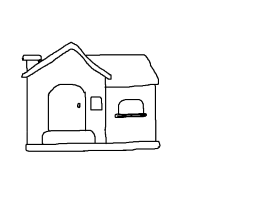chimney: (22, 48, 44, 74)
door: (43, 78, 90, 135)
open_window: (115, 99, 147, 118), (90, 96, 102, 111)
roof: (21, 40, 114, 87)
wall: (21, 40, 109, 147)
